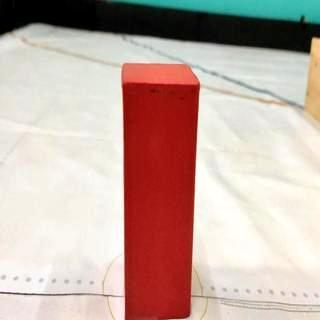redbox: (120, 62, 201, 320)
